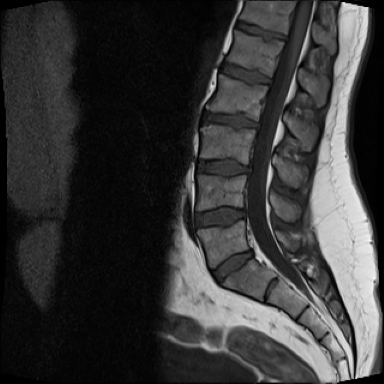Degenerative Disc Disease (DDD): (229, 14, 290, 44), (202, 106, 261, 133)
Normal IVD: (208, 242, 257, 288), (217, 56, 276, 91), (191, 200, 251, 232), (190, 157, 256, 179)
